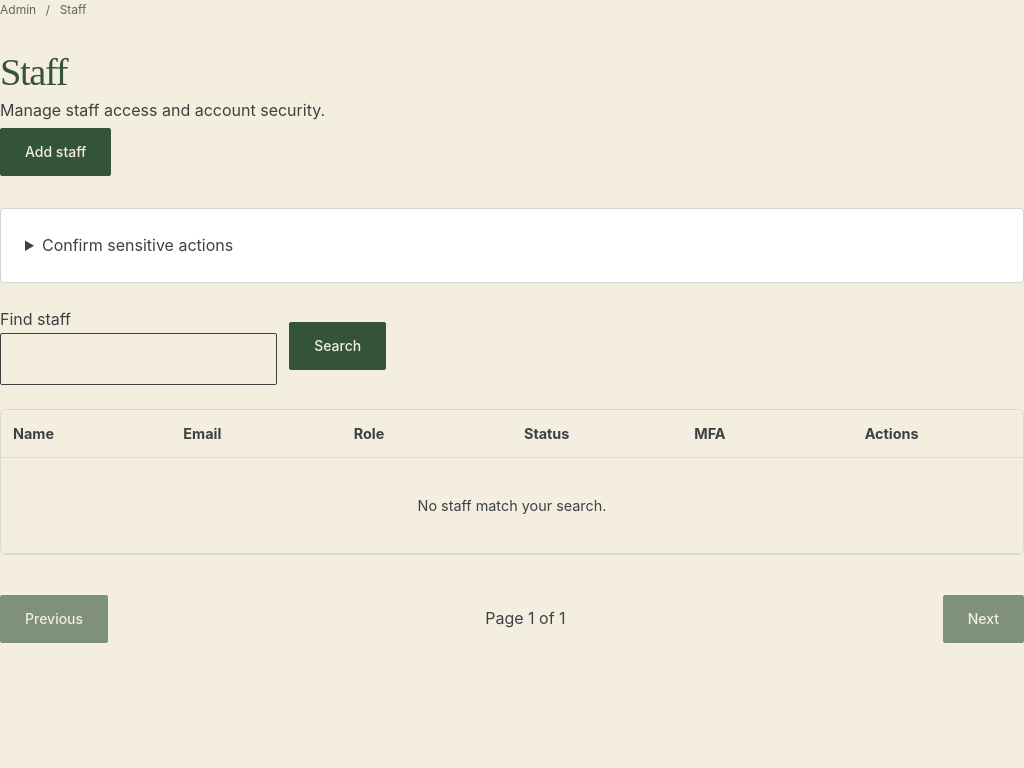
Scenario: shows a standard error toast when invitation submission fails
The image size is (1024, 768).
Click the button "Add staff": point(56, 152) 0,128 -> 111,176
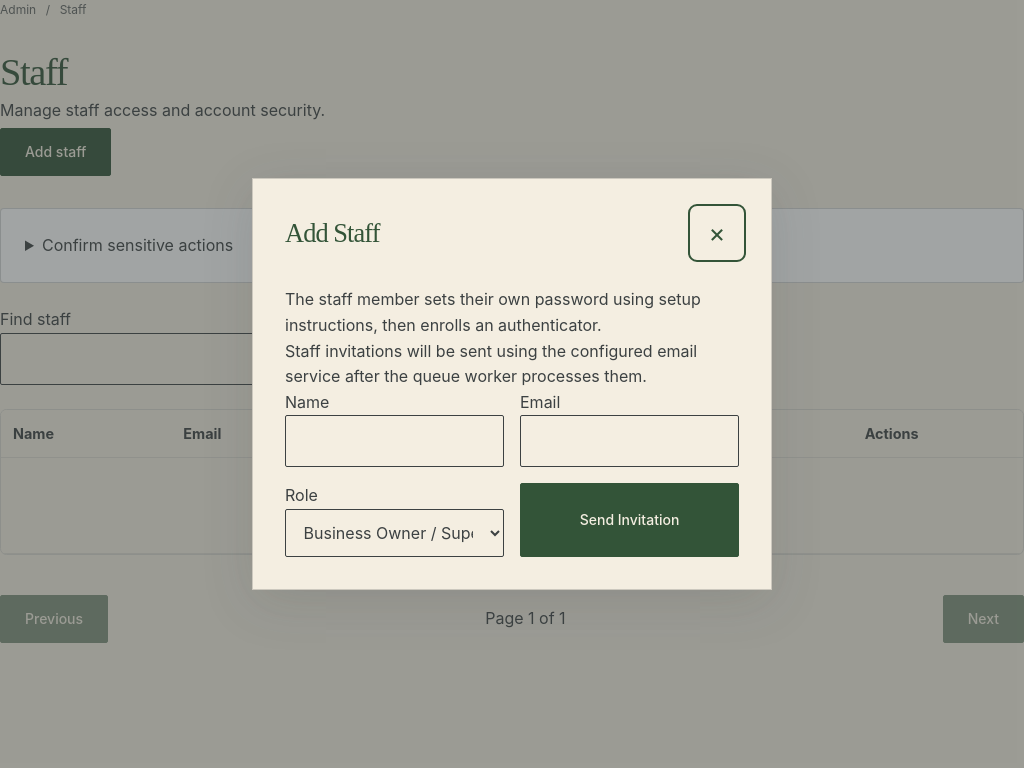
In the field labelled "Name": point(394, 441) 285,415 -> 504,467, type "Colleague"
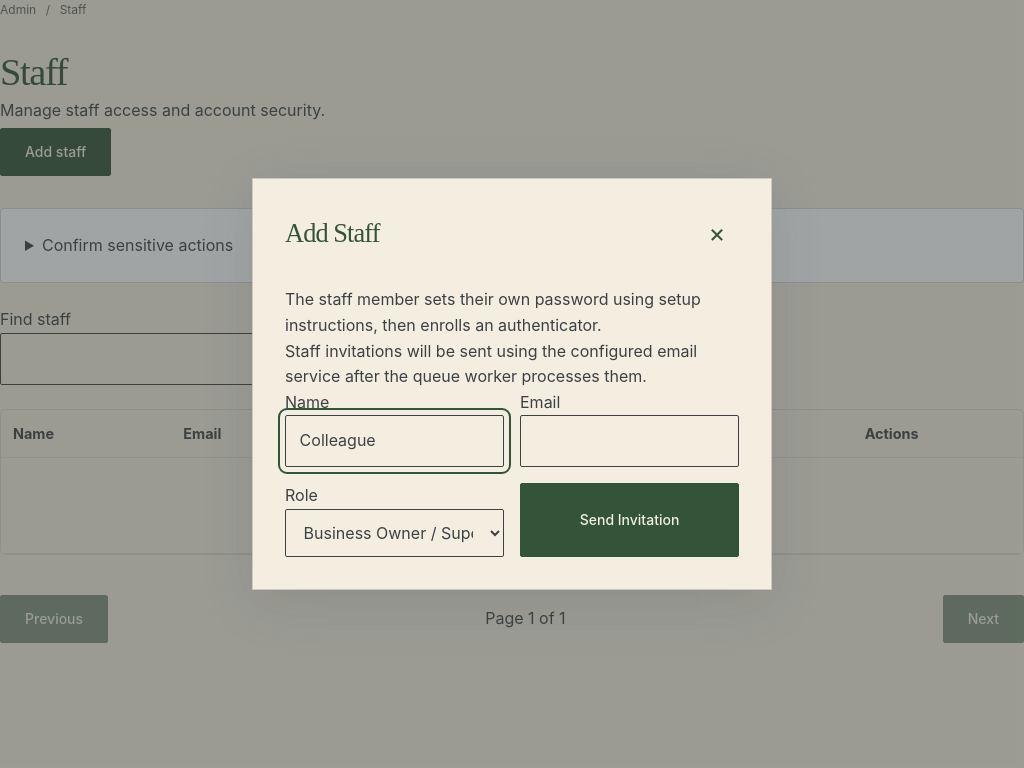
In the field labelled "Email": point(630, 441) 520,415 -> 739,467, type "colleague@example.test"
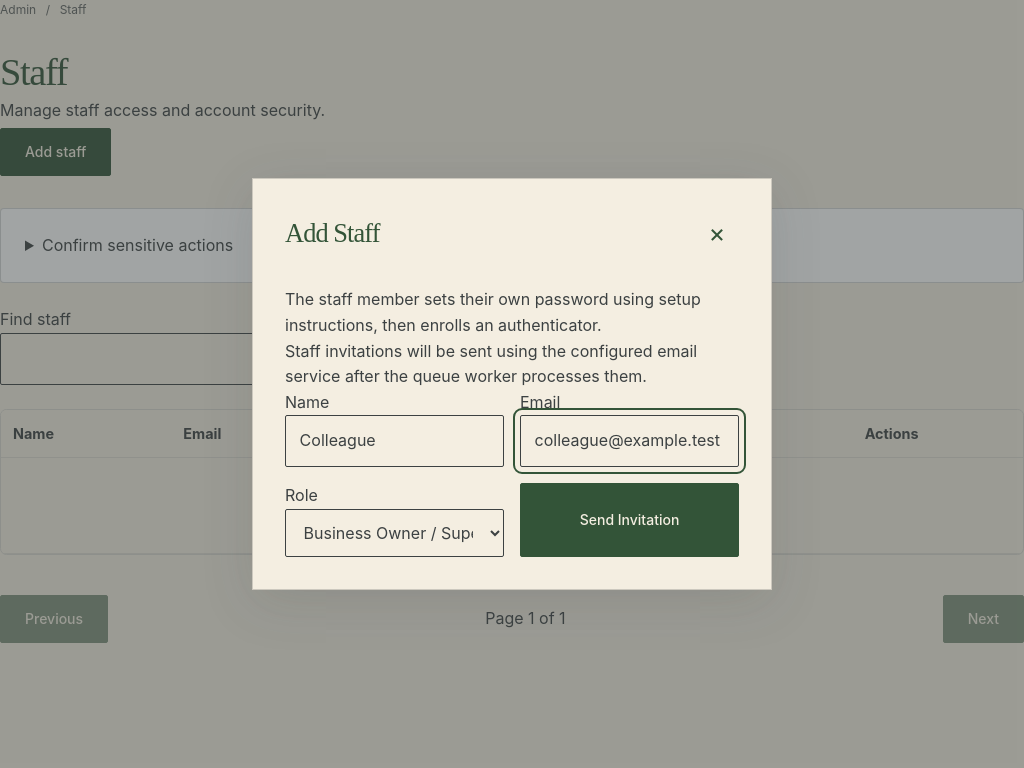
Click the button "Send Invitation": point(630, 520) 520,483 -> 739,557
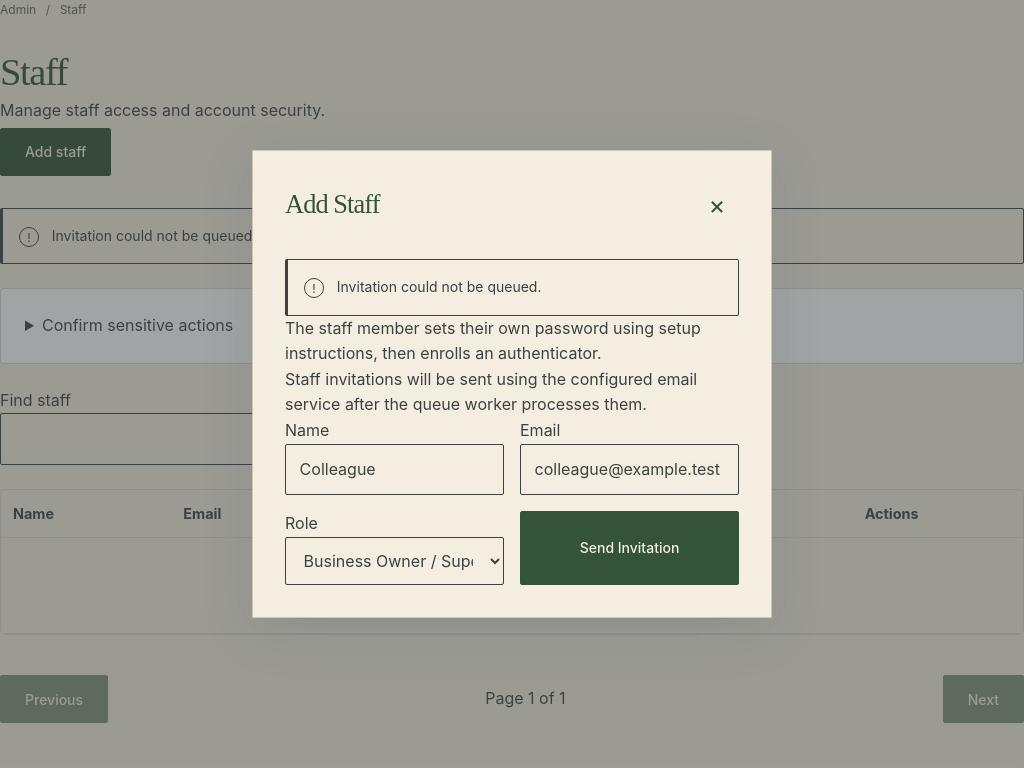
Check: the 1st text "Invitation could not be queued." is shown, box 52,225 -> 256,247
